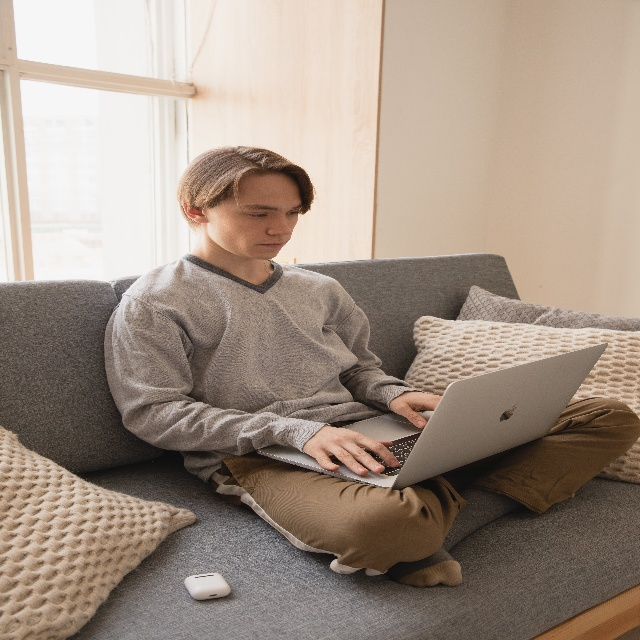Sin_guantes: (302, 424, 400, 474), (389, 391, 443, 428)
